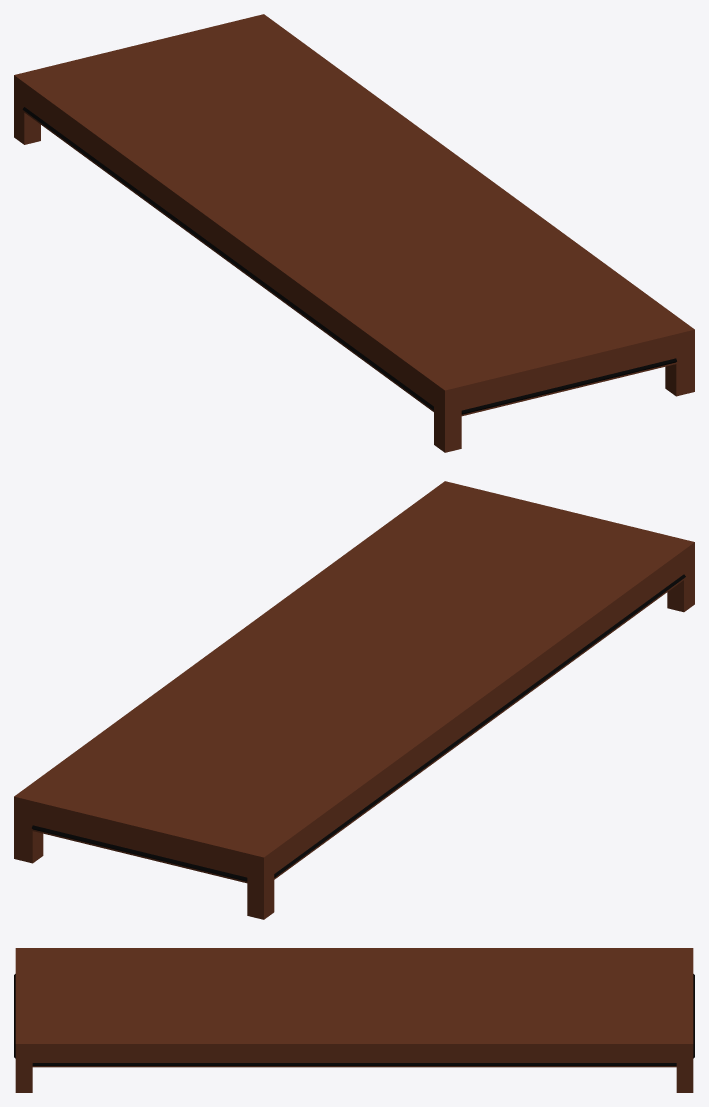
The model's file is Table 2.fbx.
The picture shows the model from 3 angles, top to bottom: view 1: azimuth 30°, elevation 25°; view 2: azimuth 150°, elevation 25°; view 3: azimuth 270°, elevation 25°; orthographic projection. The views are drawn at different scales.
Visible parts, largest first — view 1: Cube; view 2: Cube; view 3: Cube.
Boxes of the visible parts, left/top/right/bottom form: Cube: left=14, top=14, right=694, bottom=452; Cube: left=14, top=481, right=694, bottom=919; Cube: left=14, top=948, right=694, bottom=1092.
Size of the model in its own units: 99.84 by 23.41 by 295.
